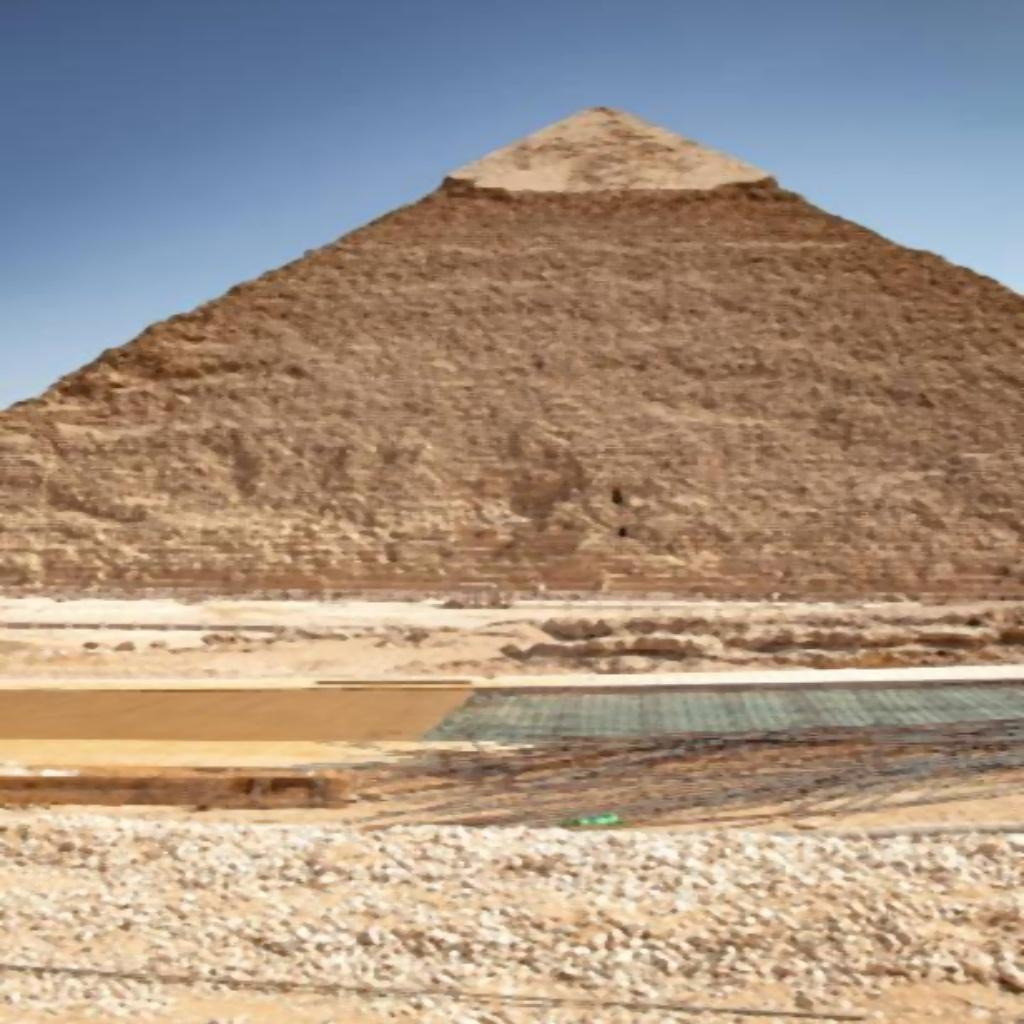Great Pyramids of Giza: (0, 102, 1021, 607)
